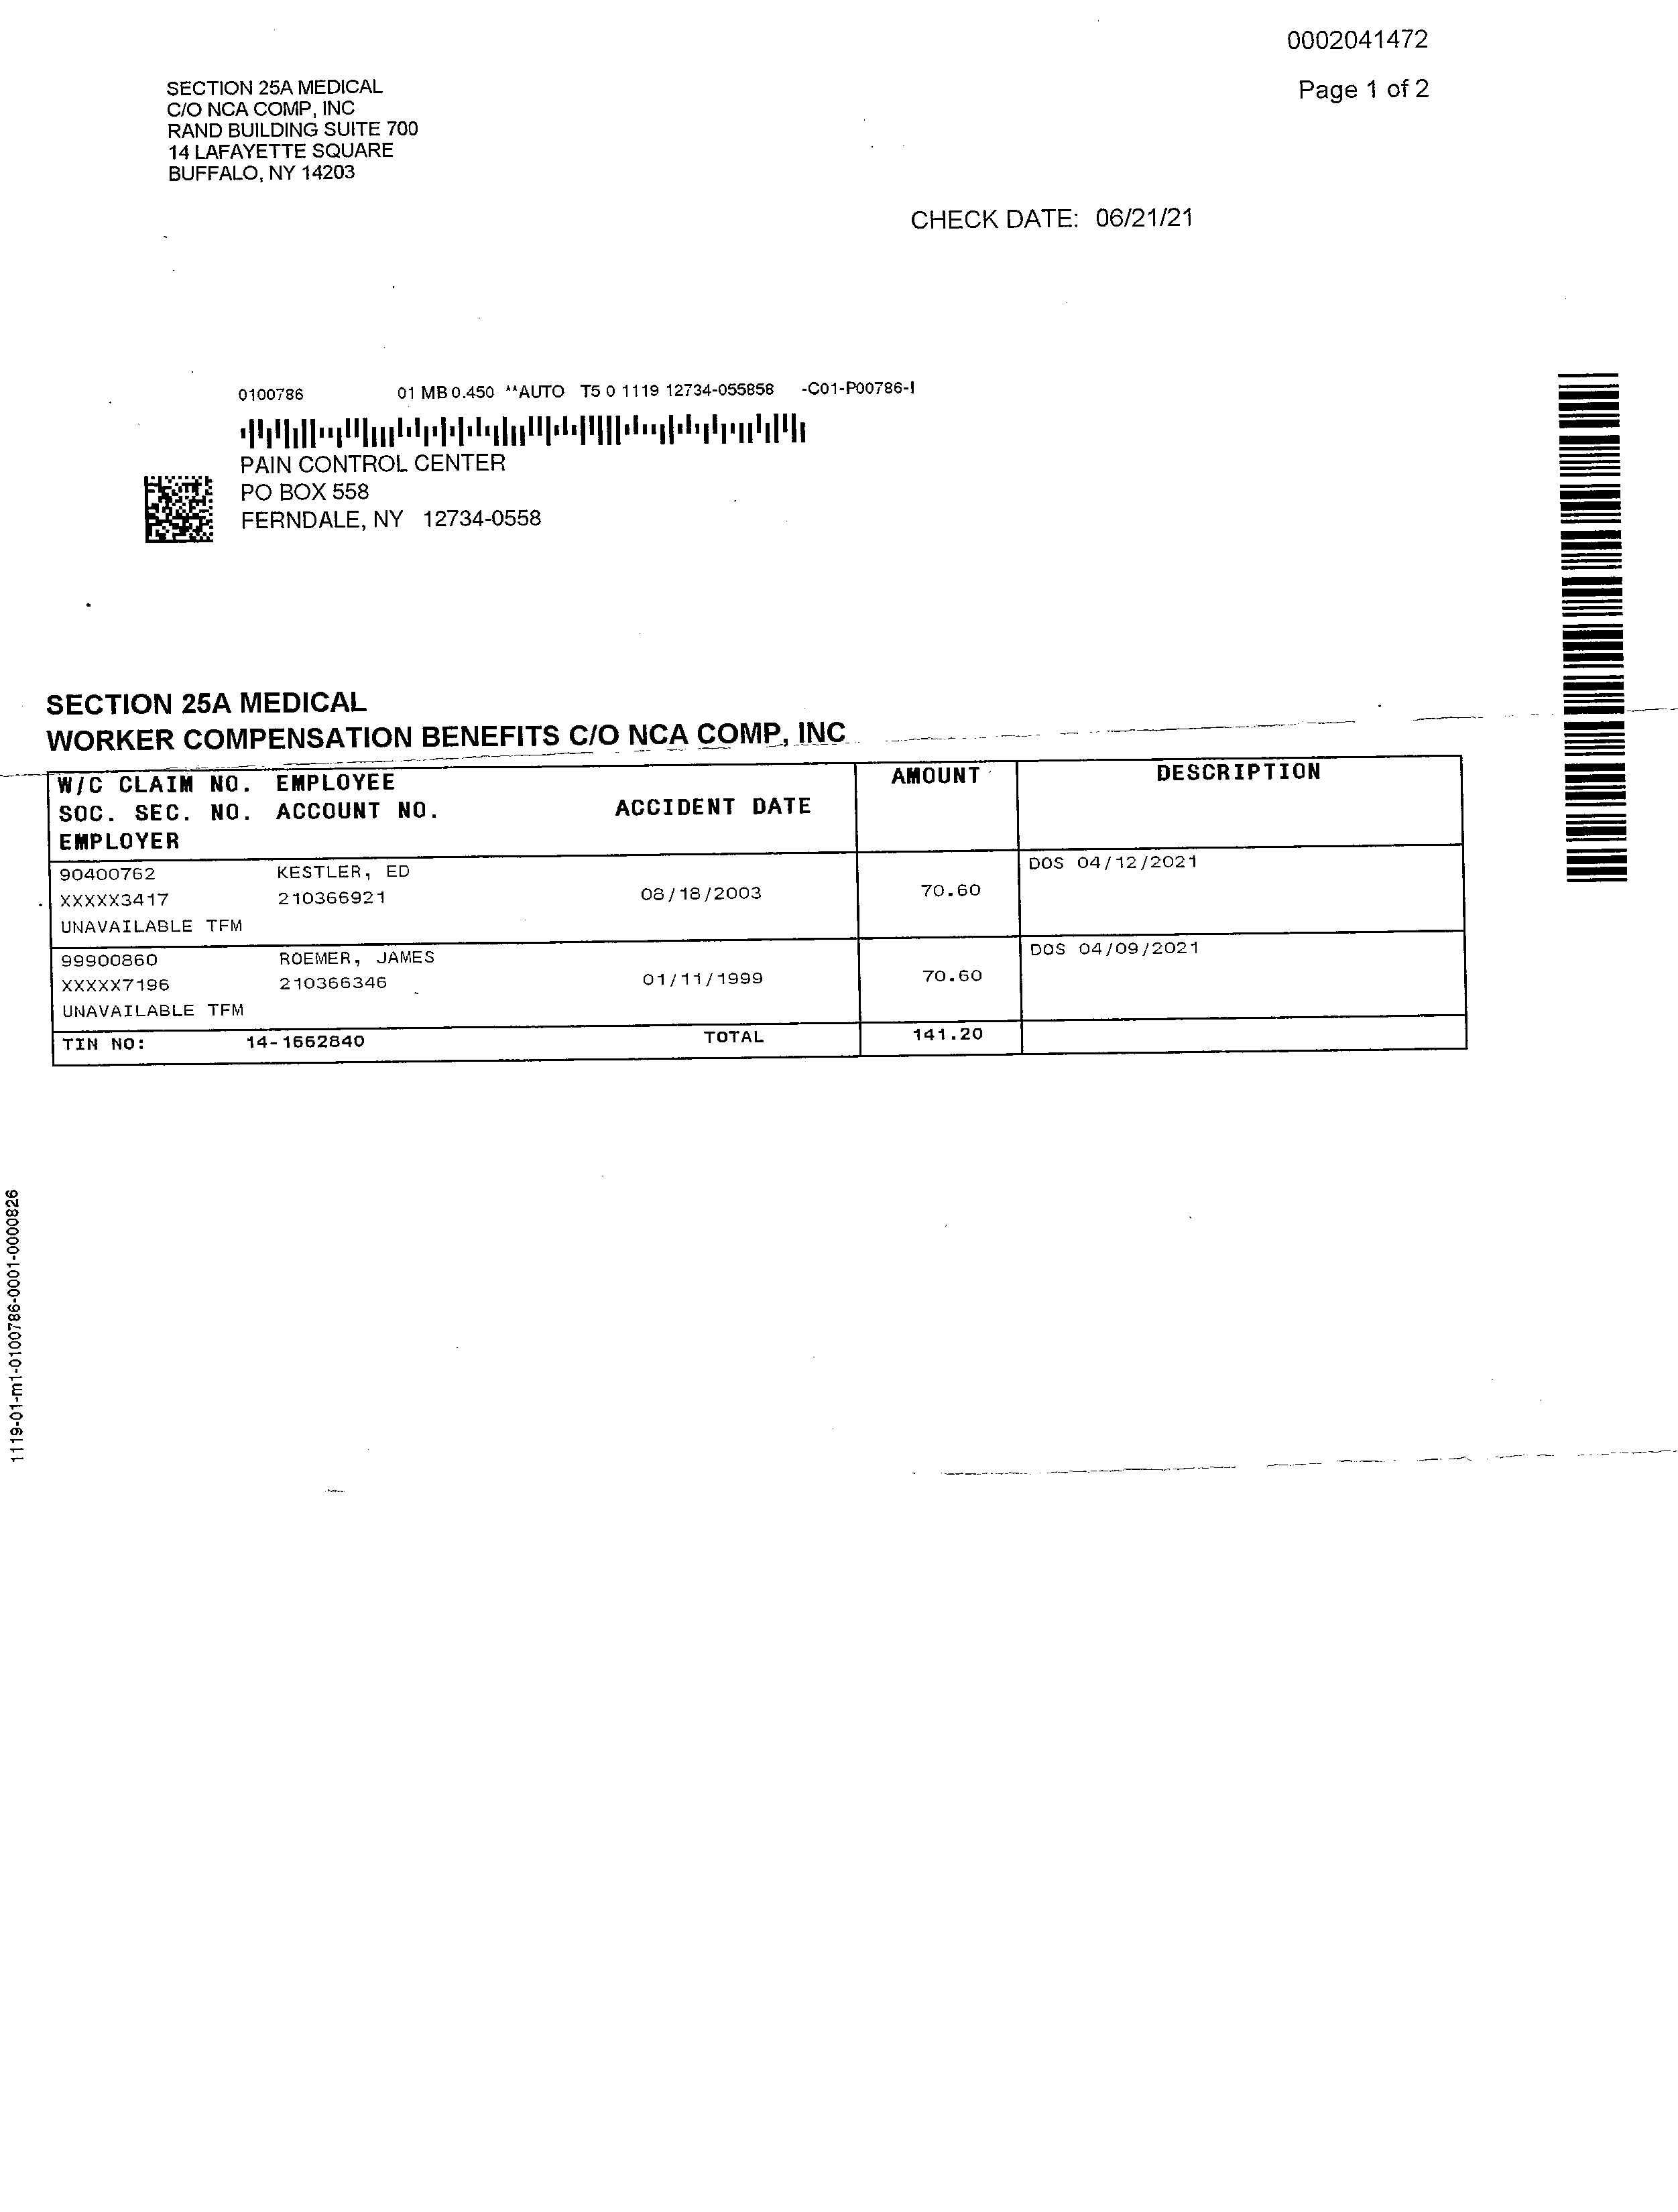table: (39, 754, 1491, 1073)
